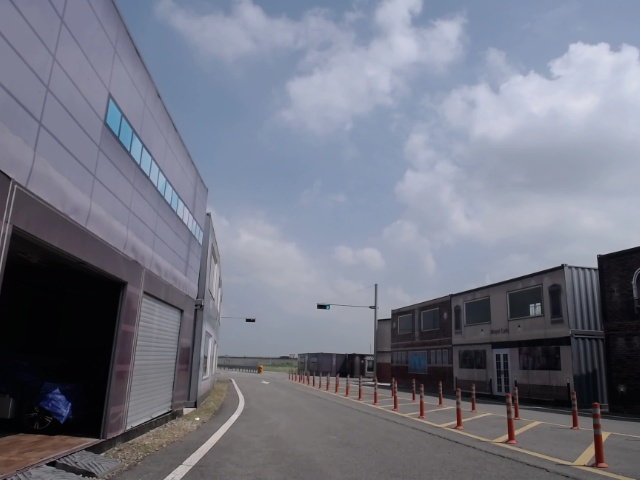green_3: (316, 304, 330, 310)
